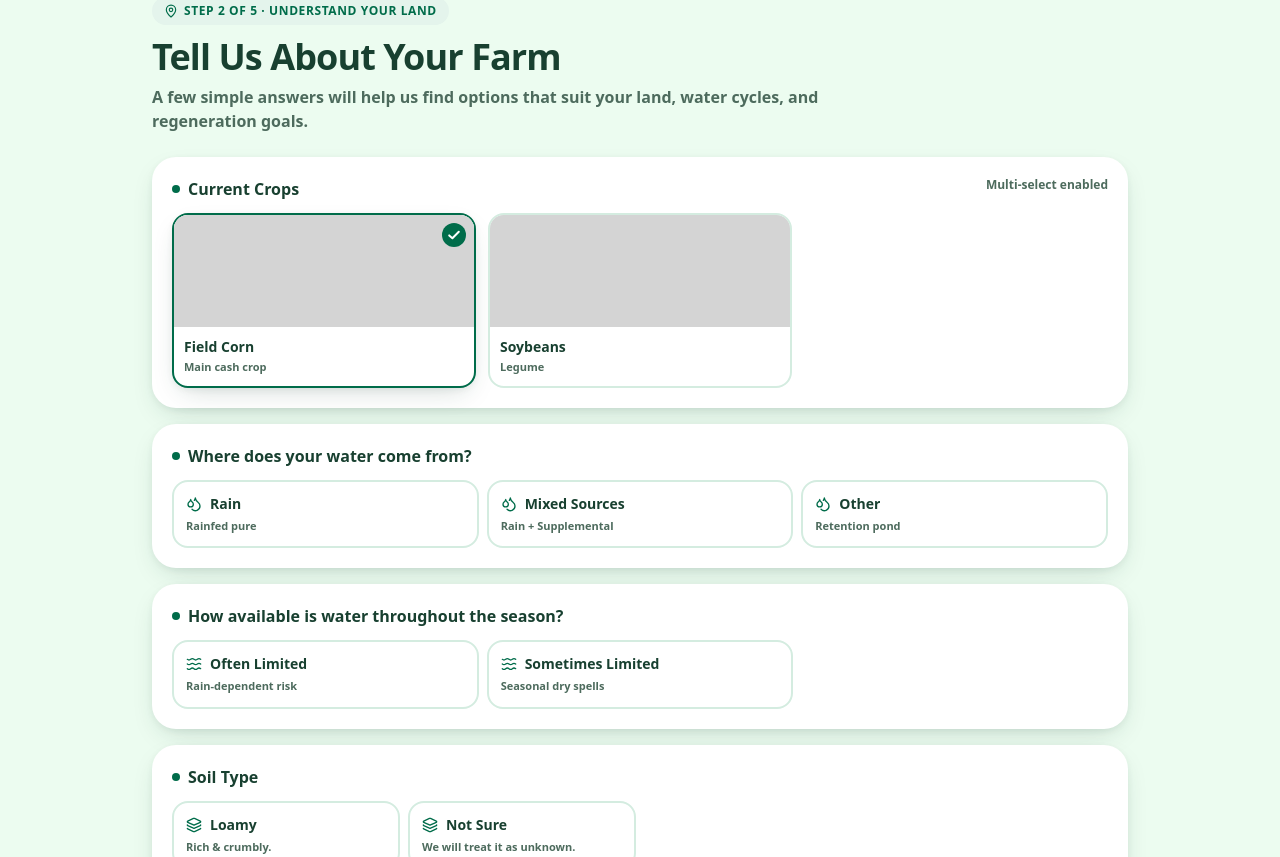
Test: my farm › removes a crop the API does not know and saves nothing
Earlier steps of the test are not shown.
Click the button "Mixed Sources Rain + Supplemental" at x=575, y=503, box 487,480 -> 793,548
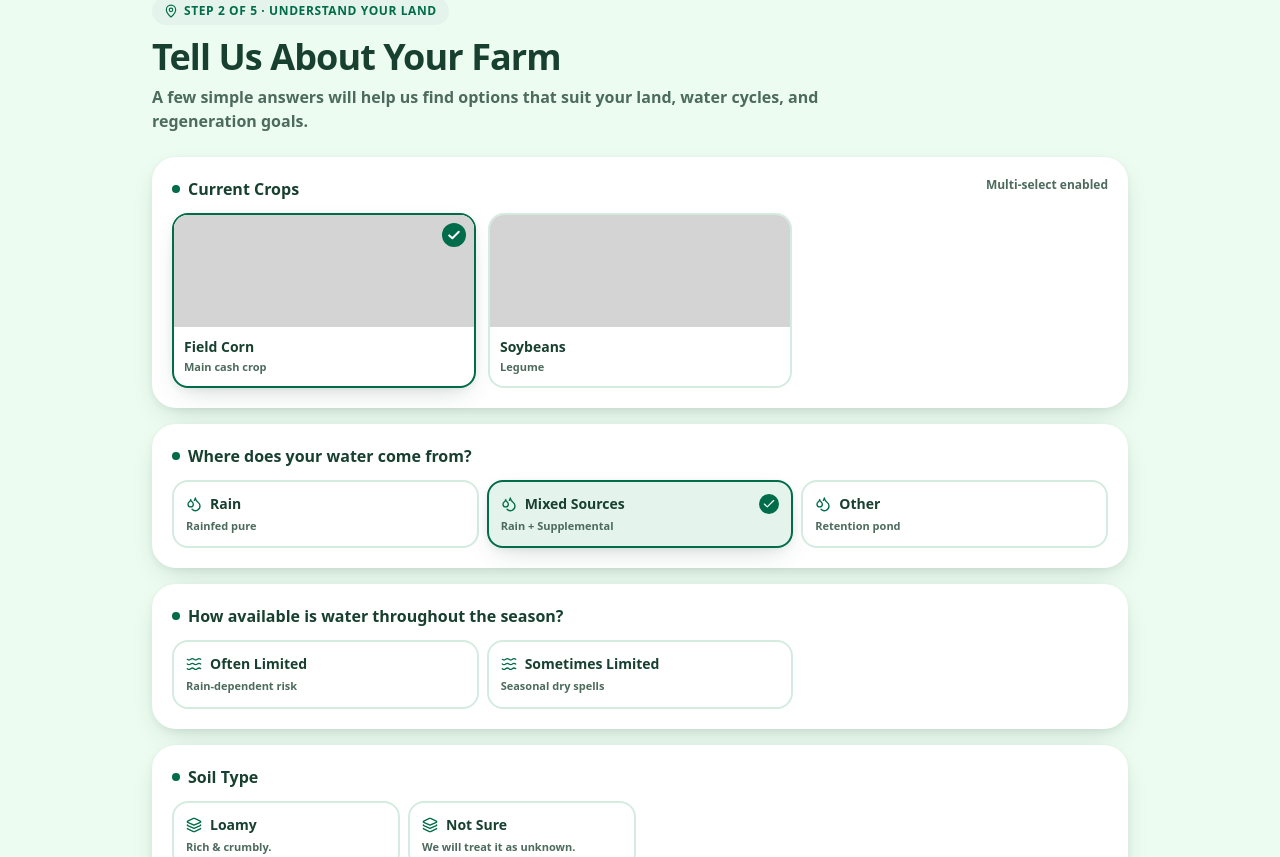
Click the button "Sometimes Limited Seasonal dry spells" at x=640, y=674, box 487,640 -> 793,708
(page scrolled)
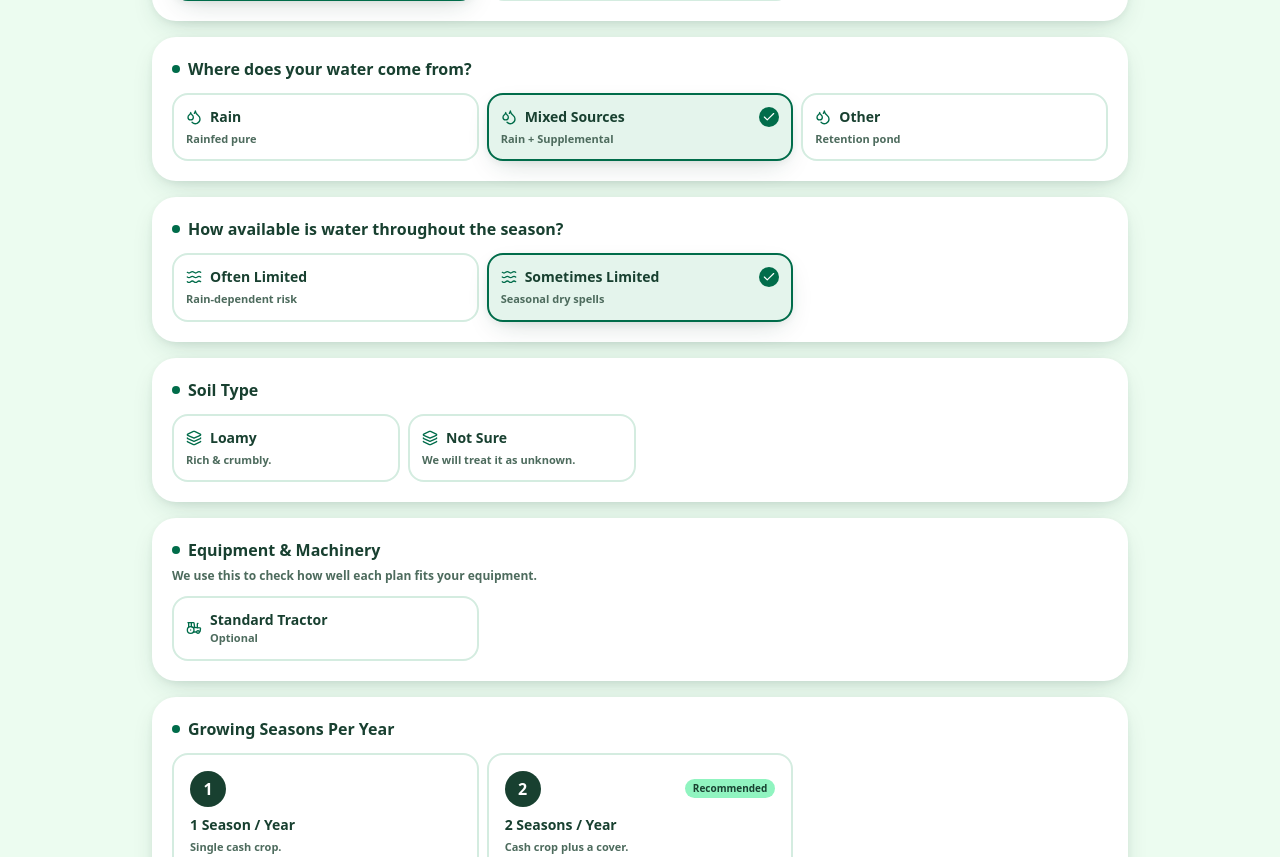
Click the button "Loamy Rich & crumbly." at x=286, y=448, box 172,414 -> 400,482
(page scrolled)
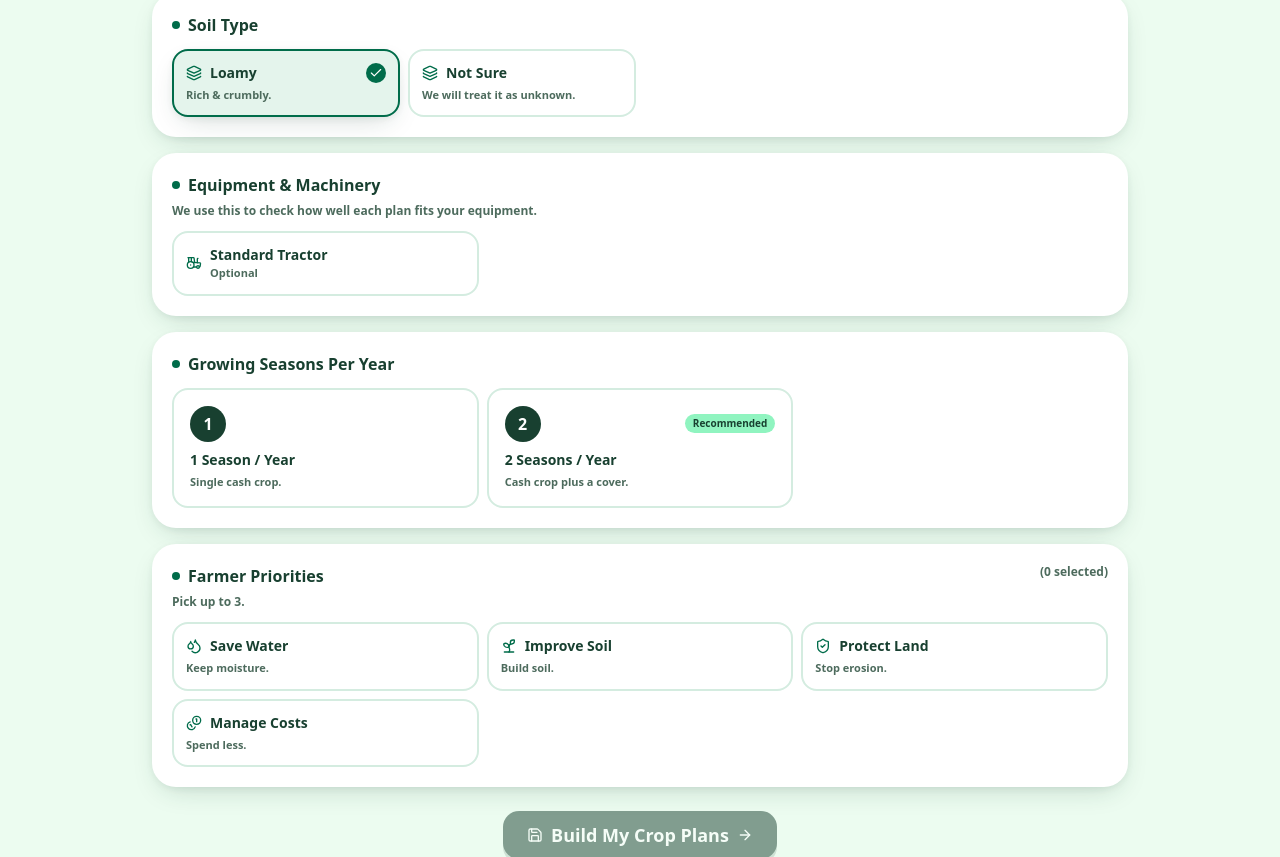
Click the button "2 Recommended 2 Seasons / Year Cash crop plus a cover." at x=523, y=424, box 487,388 -> 793,508
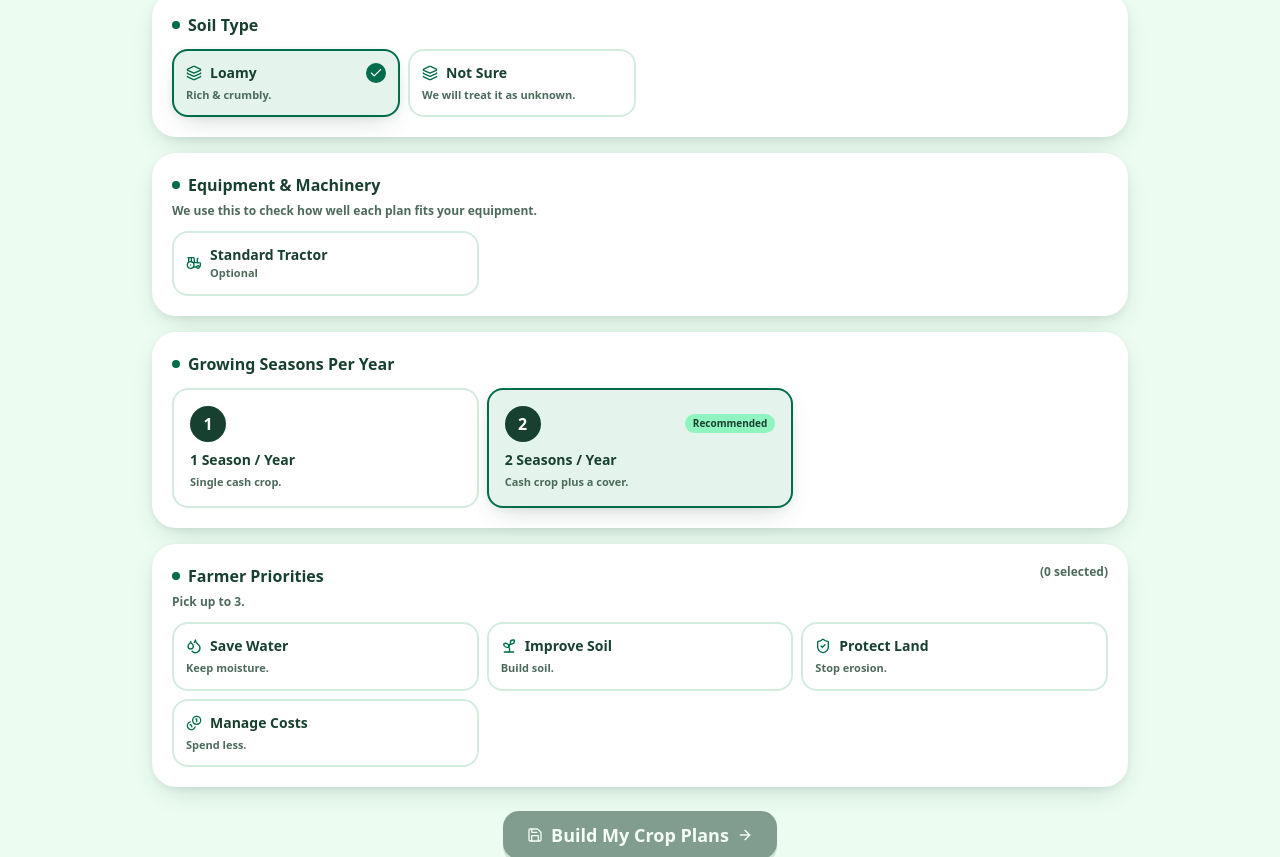
Click the button "Save Water Keep moisture." at x=249, y=646, box 172,622 -> 479,690
(page scrolled)
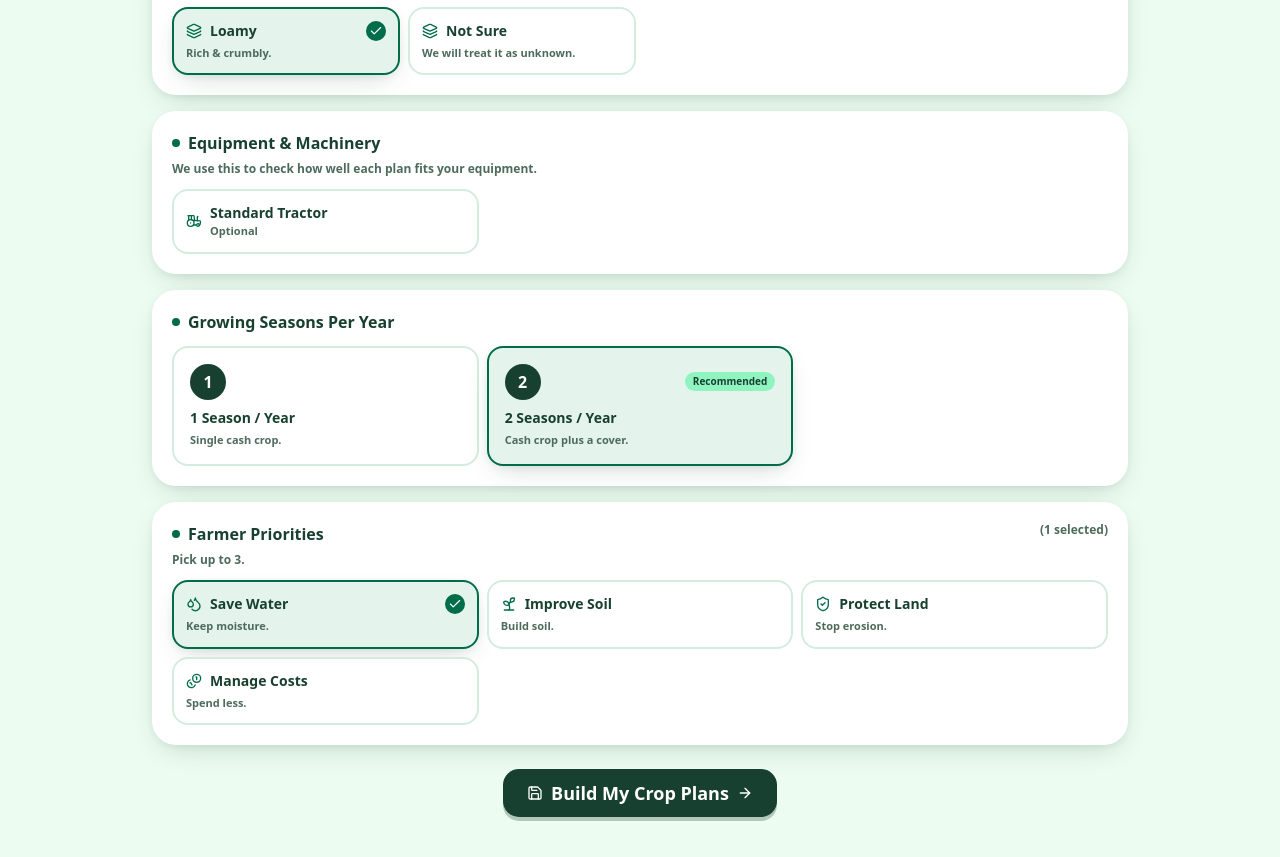
Click the button "Build My Crop Plans" at x=640, y=793, box 503,769 -> 777,817
(page scrolled)
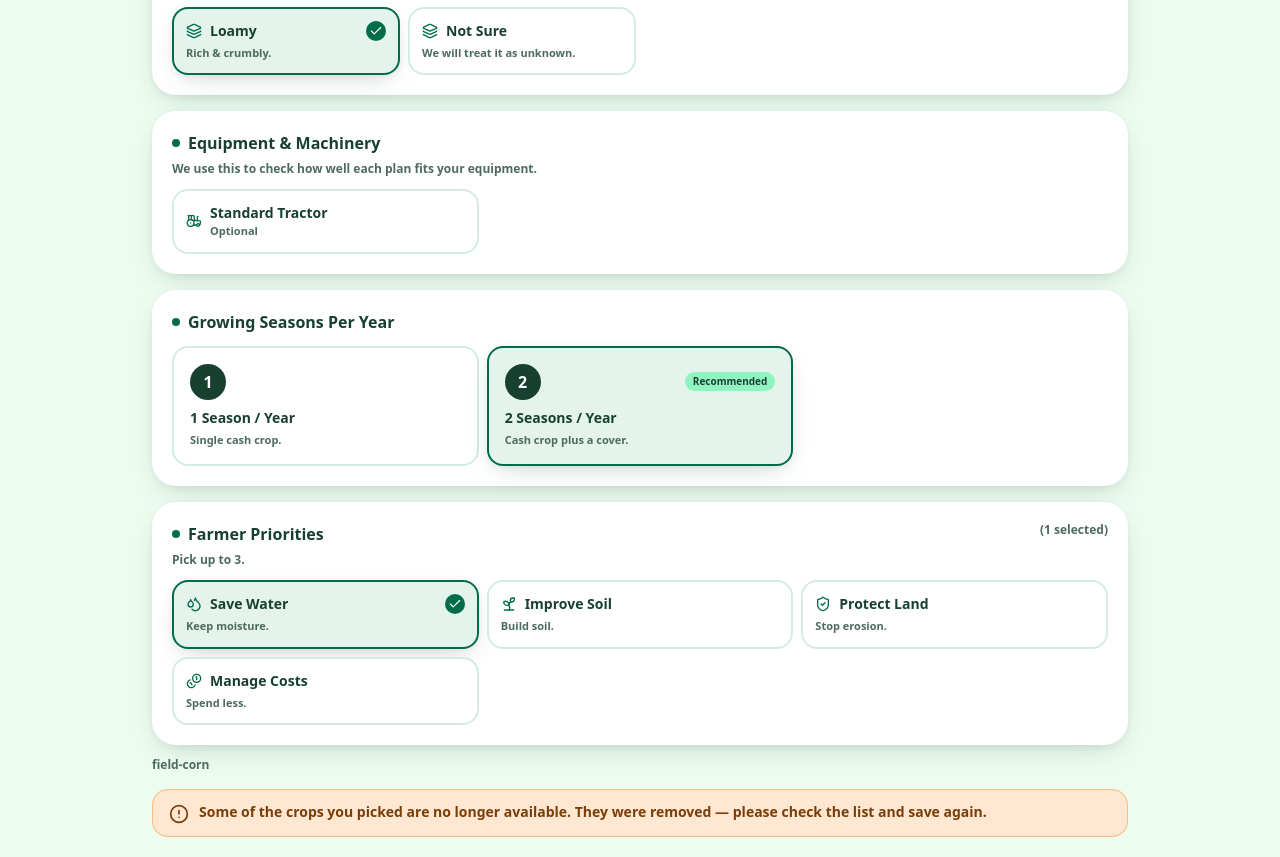
expect the text "Some of the crops you picked are no longer available. They were removed — please check the list and save again." is shown: met, box 199,802 -> 987,821
